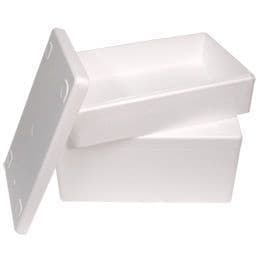Boxes: (4, 28, 254, 234)
